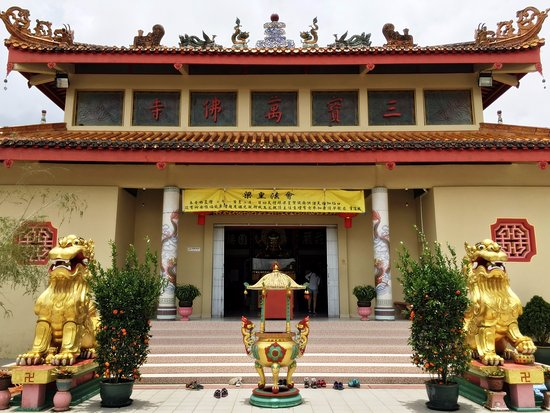Buddhist Temple: (2, 6, 537, 296)
